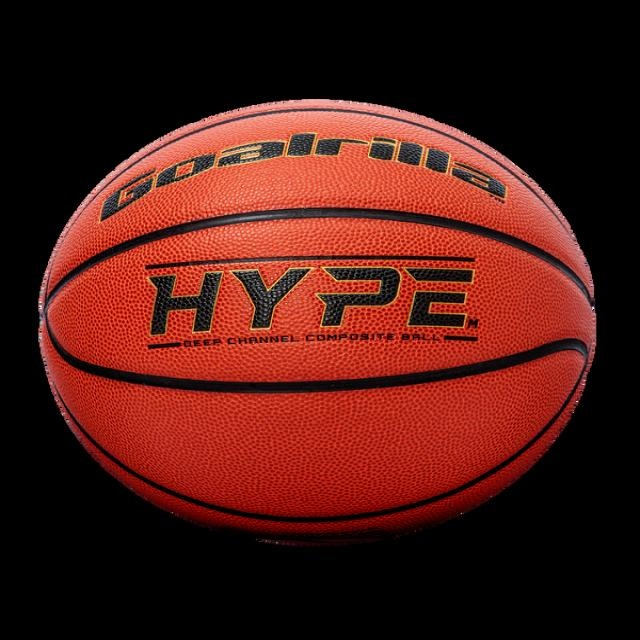agrume: (18, 108, 602, 547)
